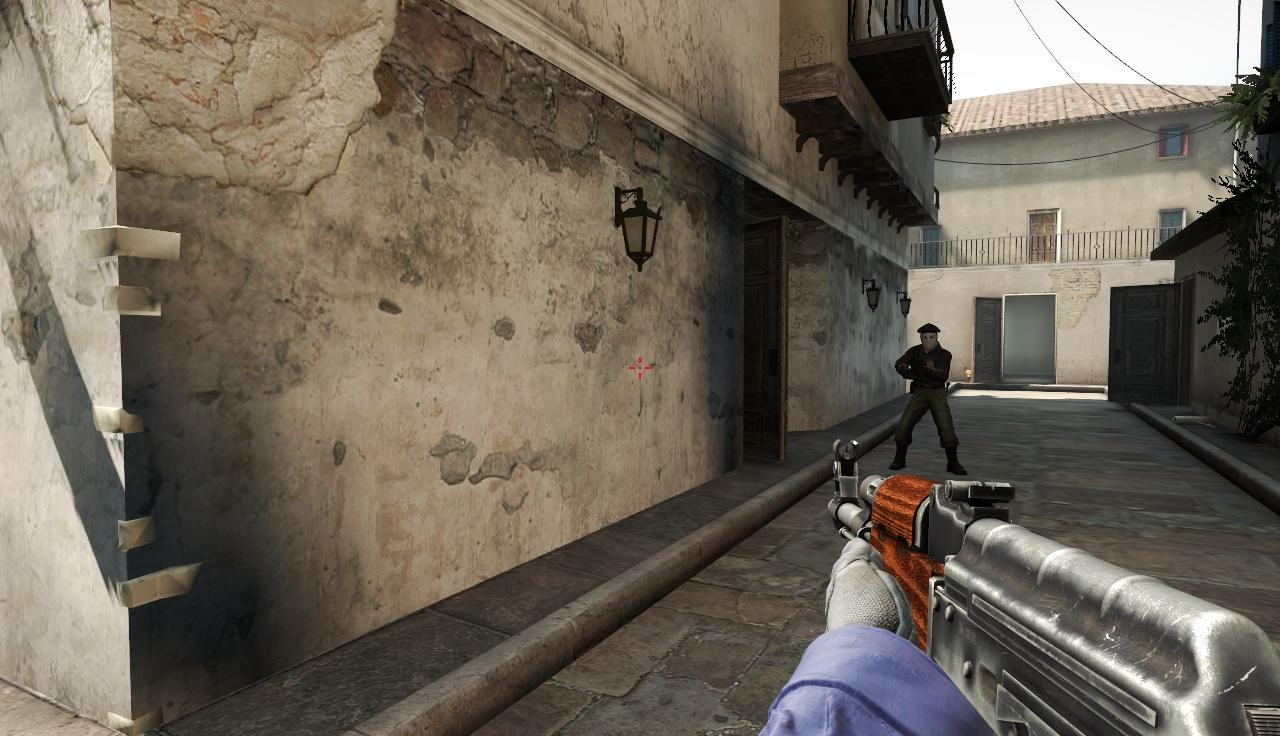rifle: (820, 439, 1280, 736)
tt: (895, 324, 953, 469)
tthead: (920, 324, 939, 348)
